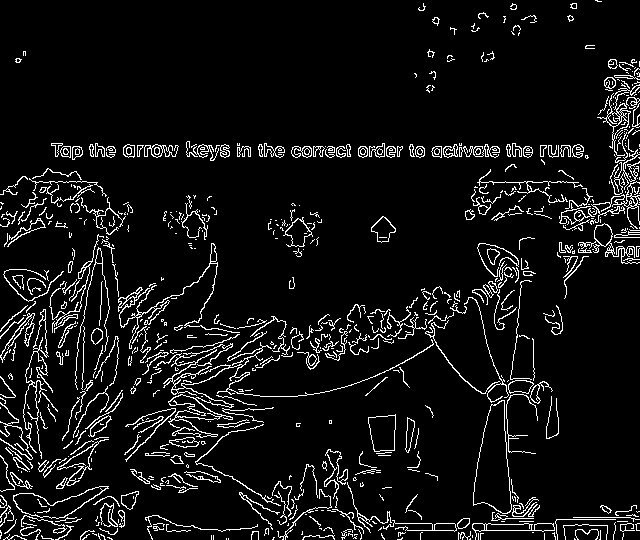right: (89, 204, 131, 242)
up: (278, 214, 320, 254), (175, 206, 215, 245), (364, 209, 402, 247)
